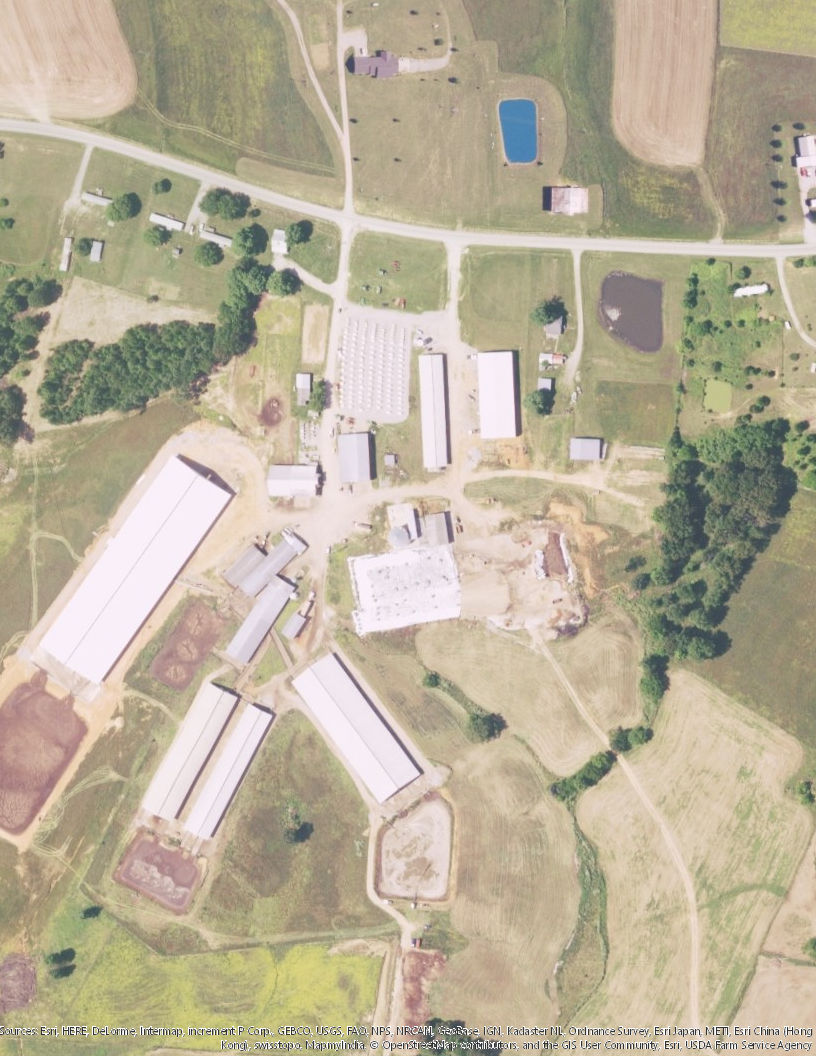cafo: (39, 452, 242, 688), (289, 651, 429, 805), (139, 675, 241, 826), (182, 700, 280, 845), (218, 530, 304, 668), (408, 345, 461, 483), (470, 346, 527, 445), (336, 422, 377, 489), (268, 459, 326, 498)
